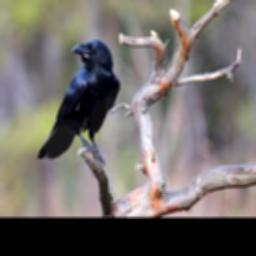Crow: (35, 37, 121, 164)
